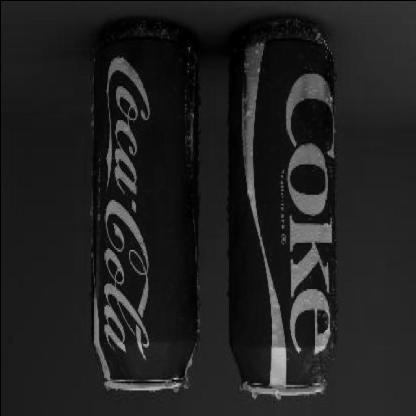alumunium_can: (226, 17, 338, 399), (91, 17, 199, 392)
